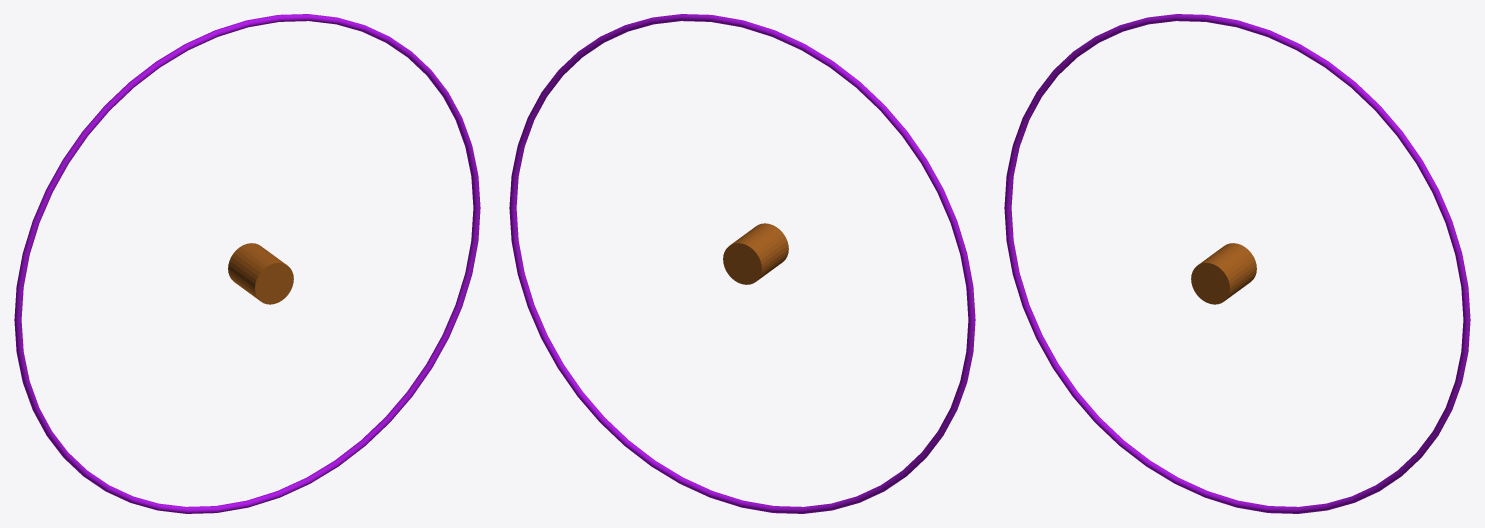
Rendered from adanat-18940.glb.
The picture shows the model from 3 angles, left to right: view 1: azimuth 30°, elevation 25°; view 2: azimuth 150°, elevation 25°; view 3: azimuth 330°, elevation 25°; orthographic projection.
Visible parts, largest first — view 1: _outline.015, Cylinder.152; view 2: _outline.015, Cylinder.152; view 3: _outline.015, Cylinder.152.
Boxes of the visible parts, x1,y1,x2,y2 form: _outline.015: [14, 14, 480, 513]; Cylinder.152: [228, 243, 293, 304]; _outline.015: [509, 14, 975, 513]; Cylinder.152: [723, 223, 788, 284]; _outline.015: [1004, 14, 1470, 513]; Cylinder.152: [1191, 243, 1256, 304].
Bounding box in the file's own units: 2.99 × 2.99 × 0.32.
